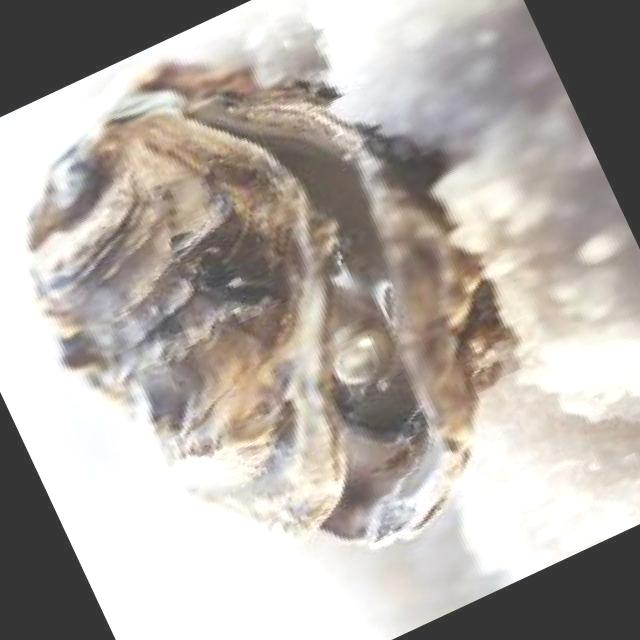Oyster-Open: (26, 60, 522, 550)
